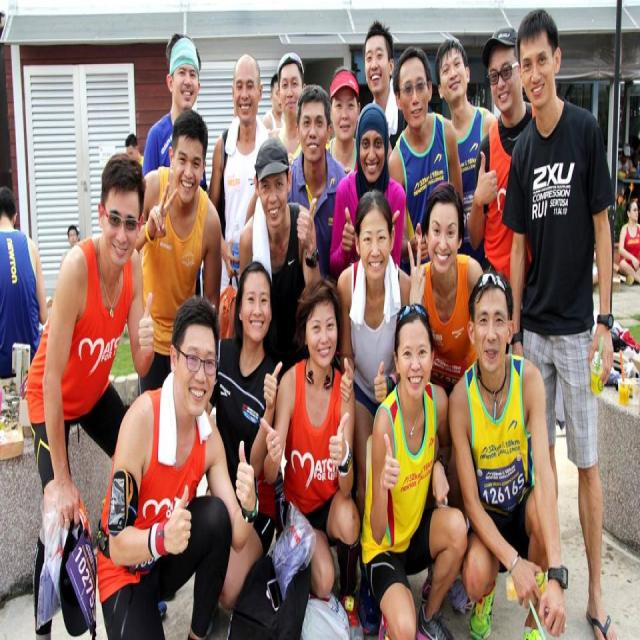body: (499, 6, 620, 639), (25, 147, 157, 639), (92, 294, 260, 639), (444, 265, 568, 639), (358, 300, 469, 639), (259, 278, 361, 630), (407, 182, 489, 612), (335, 188, 412, 639), (133, 107, 224, 397), (466, 27, 537, 306), (205, 258, 286, 502), (238, 134, 322, 367), (386, 43, 466, 276), (208, 51, 275, 295), (432, 35, 498, 274), (328, 100, 407, 278), (288, 81, 348, 266), (141, 32, 208, 193), (0, 184, 49, 383), (362, 19, 410, 152), (269, 50, 308, 166), (325, 64, 362, 177), (613, 130, 640, 214), (618, 198, 640, 288), (263, 72, 284, 138), (123, 126, 144, 164), (67, 220, 81, 249)
